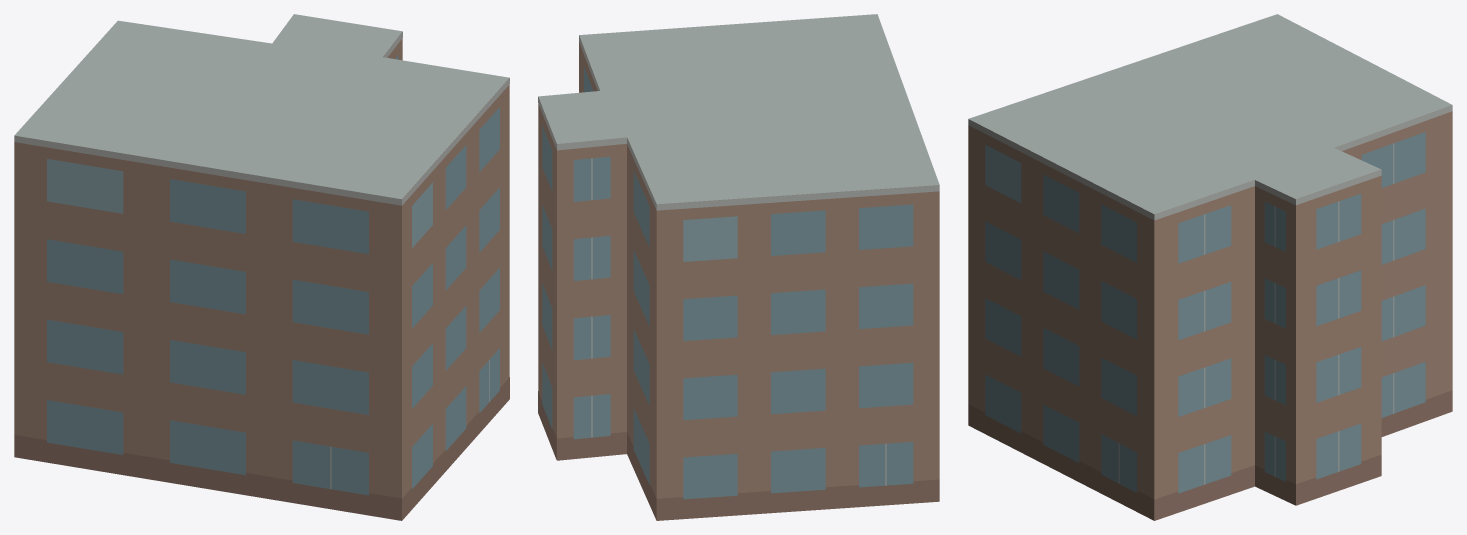
The model's file is survey-upis-32905169.glb.
3 views of the same model, side by side, from view 1: azimuth 30°, elevation 25°; view 2: azimuth 150°, elevation 25°; view 3: azimuth 270°, elevation 25° (orthographic). The views are drawn at different scales.
Parts seen in each view (by area): view 1: survey-upis-32905169.tmp; view 2: survey-upis-32905169.tmp; view 3: survey-upis-32905169.tmp.
Part boxes in pixels (<box>): survey-upis-32905169.tmp: <box>14,14,509,520</box>; survey-upis-32905169.tmp: <box>538,14,939,520</box>; survey-upis-32905169.tmp: <box>968,14,1452,520</box>.
Bounding box in the file's own units: 17.12 × 12.2 × 17.49.
